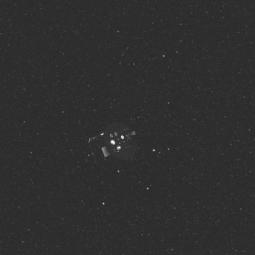proba_3_ocs: (81, 104, 150, 168)
